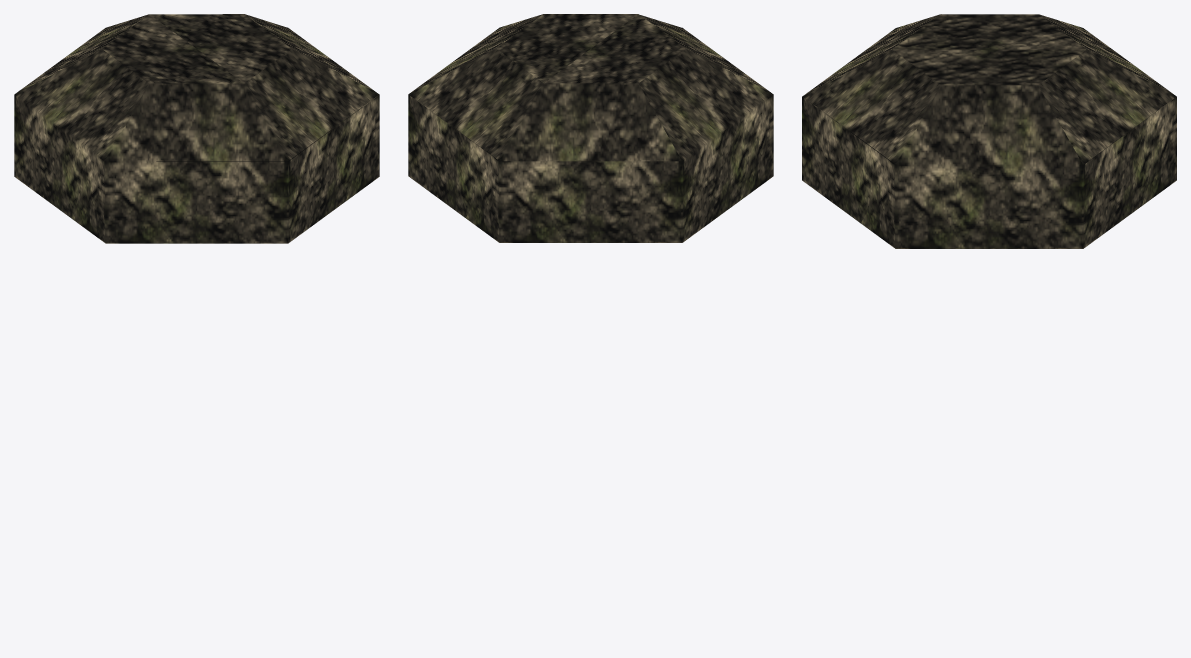
Rendered from srmcamo2.glb.
The picture shows the model from 3 angles, left to right: view 1: azimuth 30°, elevation 25°; view 2: azimuth 150°, elevation 25°; view 3: azimuth 270°, elevation 25°; orthographic projection. The views are drawn at different scales.
Parts seen in each view (by area): view 1: Doorbase, Door05, Door06, Door03, Door02; view 2: Doorbase, Door02, Door06, Door03, Door05; view 3: Doorbase, Door03, Door05, Door02, Door06.
Boxes of the visible parts, x1,y1,x2,y2 form: Doorbase: (14, 34, 379, 243); Door05: (105, 48, 379, 161); Door06: (14, 14, 243, 161); Door03: (150, 14, 376, 92); Door02: (15, 14, 263, 93); Doorbase: (408, 27, 773, 242); Door02: (409, 48, 681, 161); Door06: (544, 14, 773, 160); Door03: (409, 14, 637, 93); Door05: (499, 14, 771, 93); Doorbase: (802, 28, 1176, 248); Door03: (893, 49, 1085, 165); Door05: (803, 14, 941, 164); Door02: (1038, 14, 1176, 164); Door06: (893, 14, 1085, 49).
Bounding box in the file's own units: 7.27 × 13.6 × 8.38.
4 materials, 4 textured.
